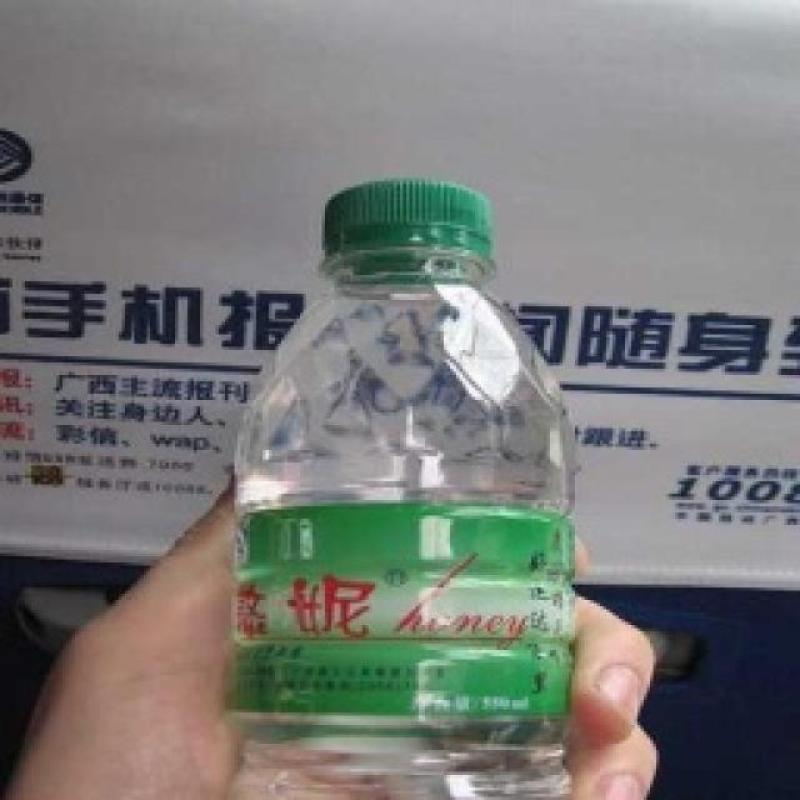botella: (226, 181, 589, 800)
